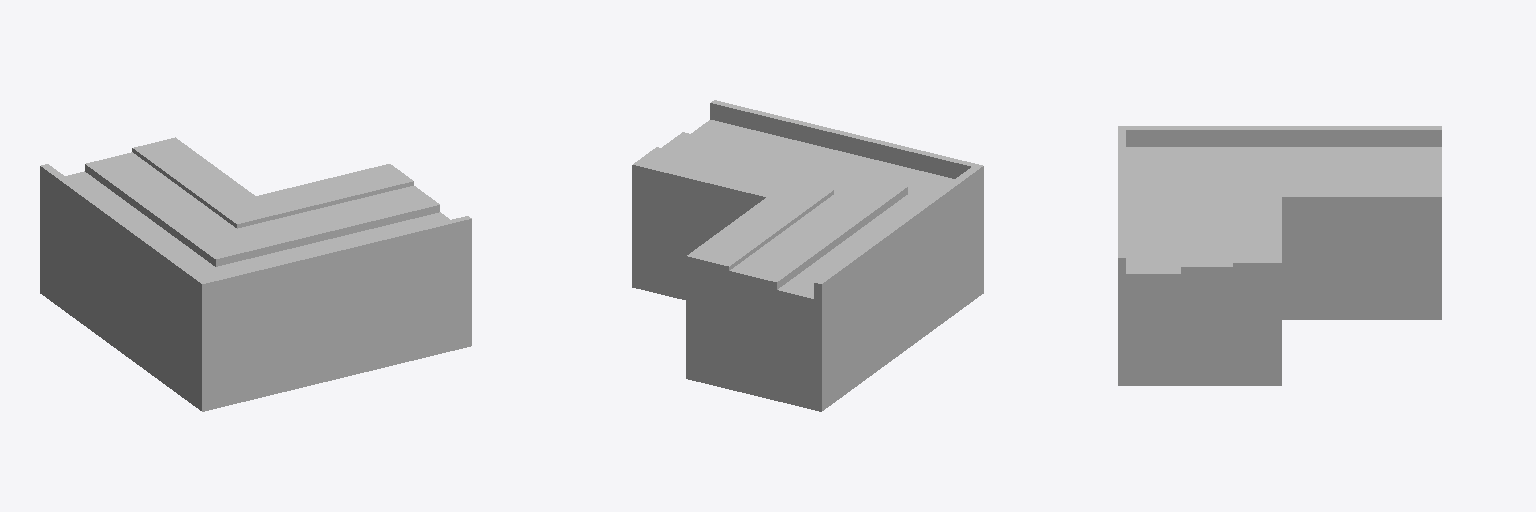
File: btsStairs.obj
The picture shows the model from 3 angles: view 1: azimuth 30°, elevation 25°; view 2: azimuth 150°, elevation 25°; view 3: azimuth 270°, elevation 25°; orthographic projection.
Visible parts, largest first — view 1: Cube.001; view 2: Cube.001; view 3: Cube.001.
Boxes of the visible parts, x1=… form: Cube.001: x1=40, y1=137, x2=471, y2=411; Cube.001: x1=632, y1=100, x2=983, y2=411; Cube.001: x1=1118, y1=126, x2=1441, y2=385.
Size of the model in its own units: 3.98 by 1.8 by 4.15.